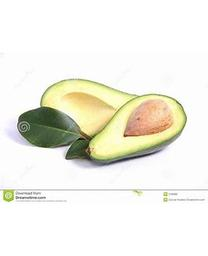avocado: (85, 92, 189, 167), (39, 77, 148, 139)
